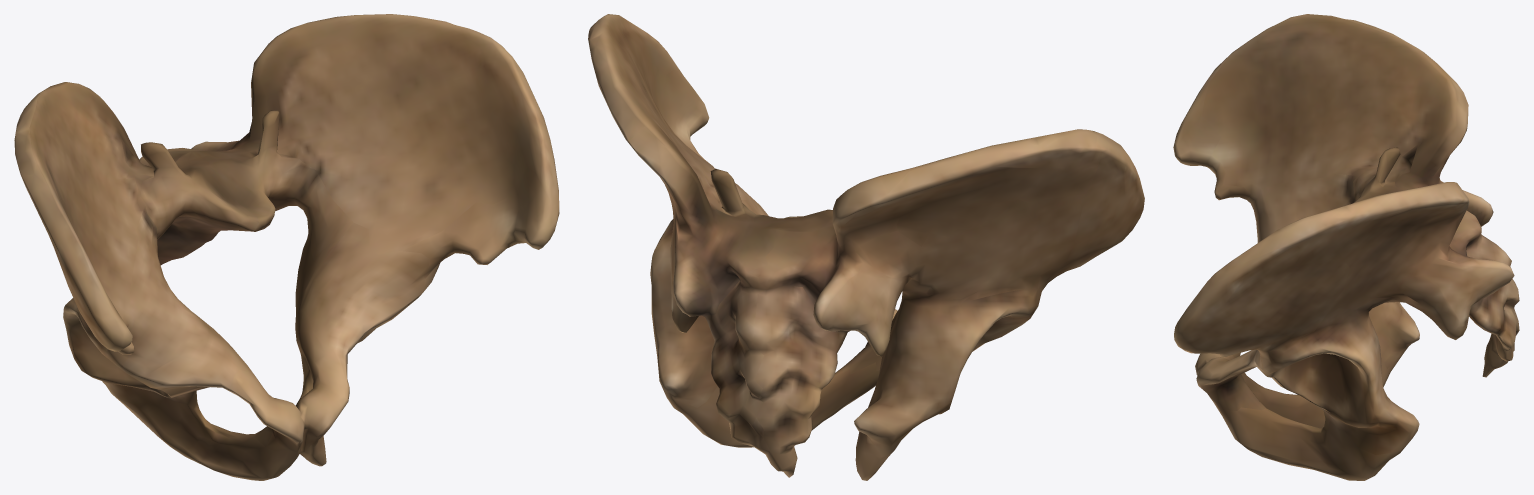
Rendered from Pelvis.glb.
The picture shows the model from 3 angles, left to right: view 1: azimuth 30°, elevation 25°; view 2: azimuth 150°, elevation 25°; view 3: azimuth 270°, elevation 25°; orthographic projection. The views are drawn at different scales.
Parts seen in each view (by area): view 1: Pelvis.001; view 2: Pelvis.001; view 3: Pelvis.001.
Part boxes in pixels (box(x1,y1,x2,y2)): Pelvis.001: box(14, 14, 559, 480); Pelvis.001: box(588, 14, 1144, 480); Pelvis.001: box(1173, 14, 1519, 480).
Size of the model in its own units: 0.276 by 0.1996 by 0.1854.
1 material, 1 textured.
